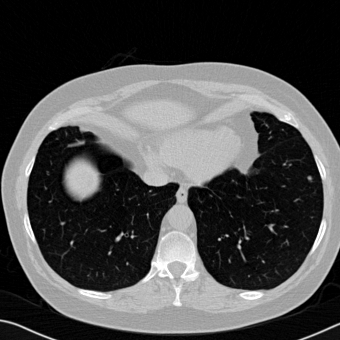nodule: (307, 176, 311, 180)
